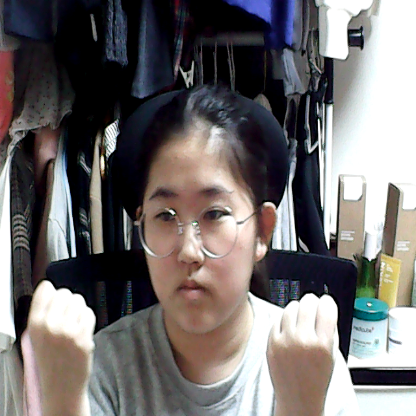Finger_0: (250, 281, 355, 407), (15, 267, 108, 400)
